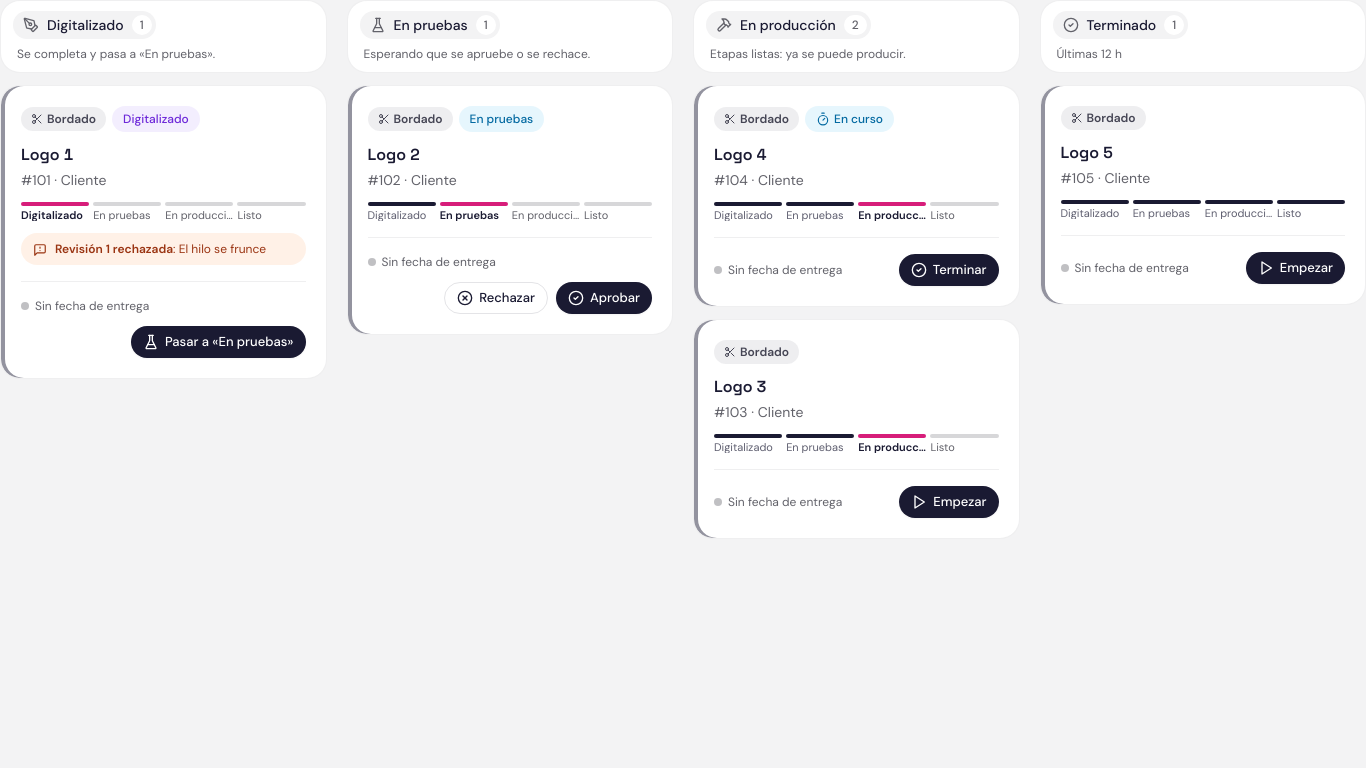
it: tablero por etapas (Tareas asignadas) › rechazar pide el motivo
Click the button "Rechazar" at {"x": 496, "y": 298}, box [444,282,548,314]
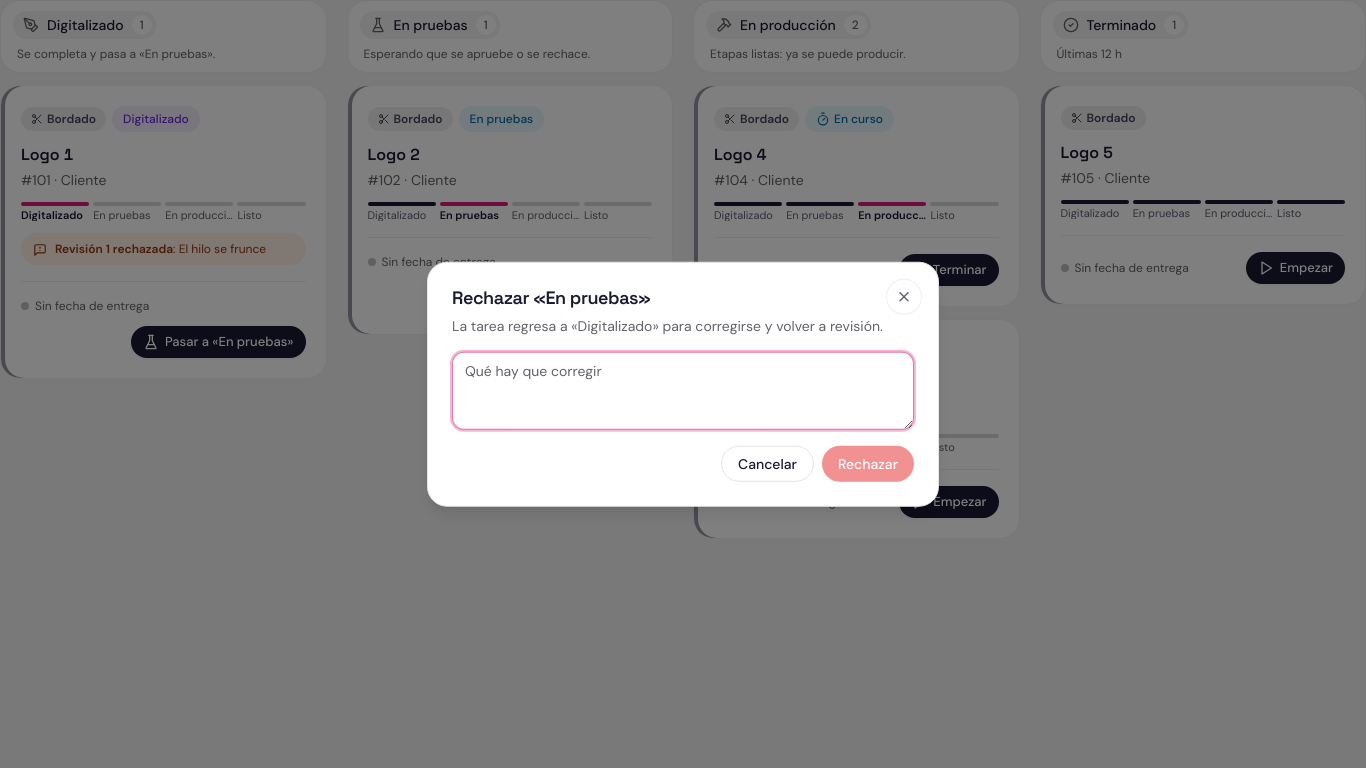
Now the heading "Rechazar «En pruebas»" is shown, box [452,286,650,309]
Now the button "Rechazar" is disabled, box [822,445,914,481]
Type "Corrige el contorno" into the text box named "Observaciones" at {"x": 683, "y": 390}, box [452,351,914,429]
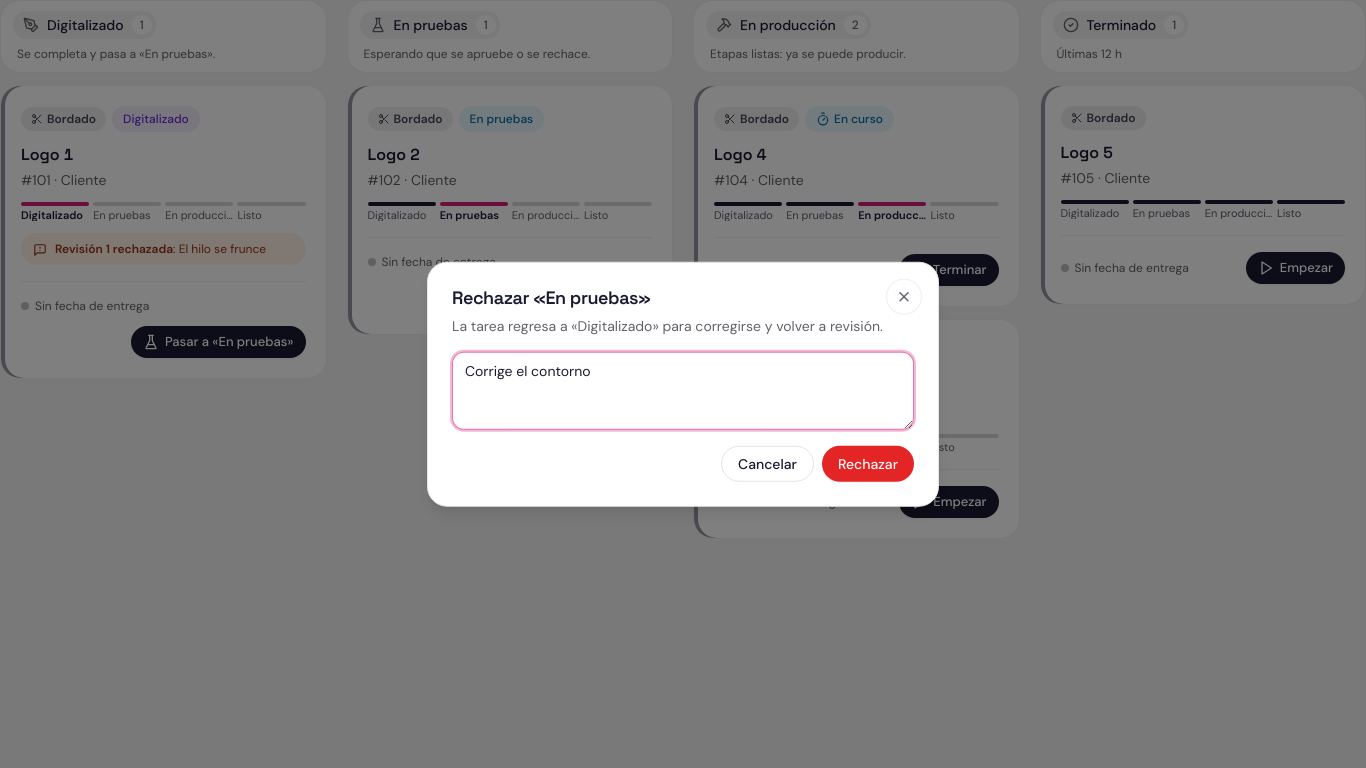
Now the button "Rechazar" is enabled, box [822,445,914,481]
